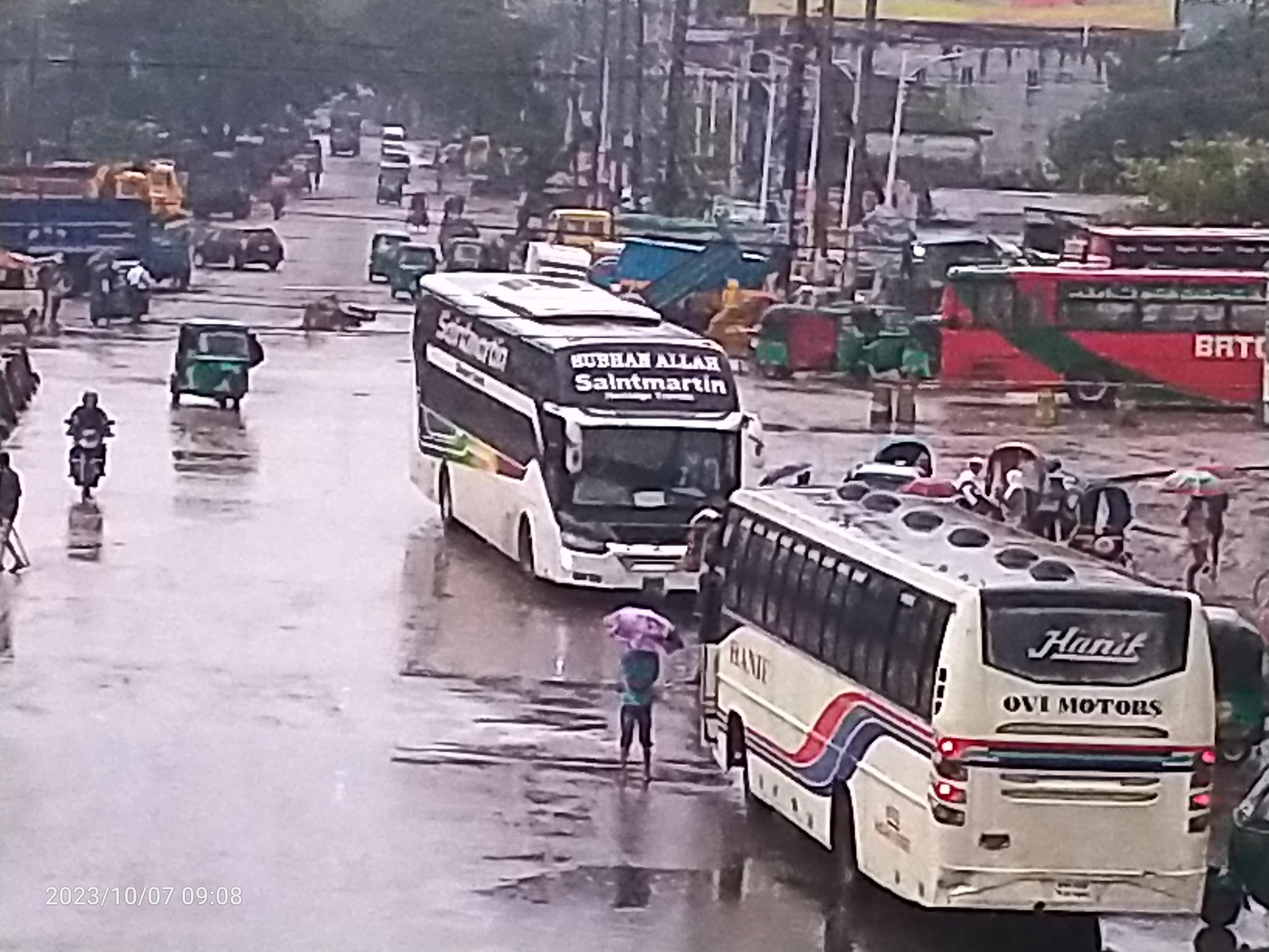Bike: (60, 372, 125, 519)
Bus: (677, 454, 1242, 949), (381, 226, 769, 624), (918, 229, 1269, 444)
Car: (961, 429, 1059, 526), (1059, 473, 1150, 565)
Truck: (0, 145, 181, 279)
